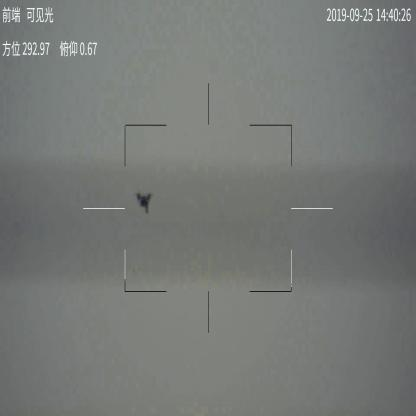uav: (130, 190, 148, 214)
